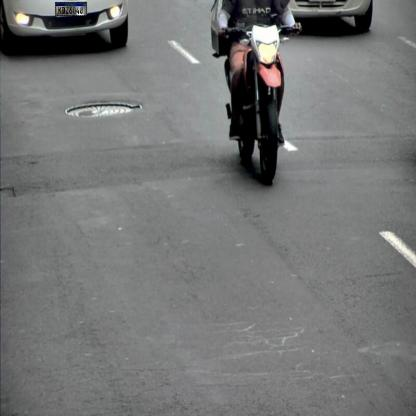PlacaM: (55, 2, 87, 16)
